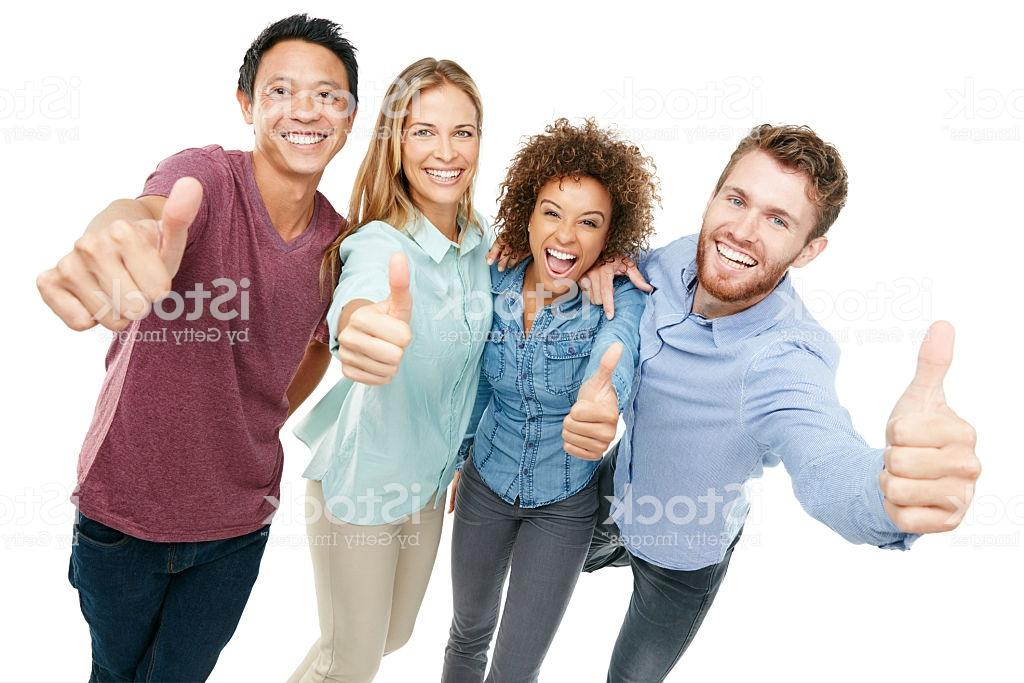thumbsup: (35, 174, 205, 333), (874, 317, 986, 537), (336, 249, 416, 386), (559, 338, 626, 462)
